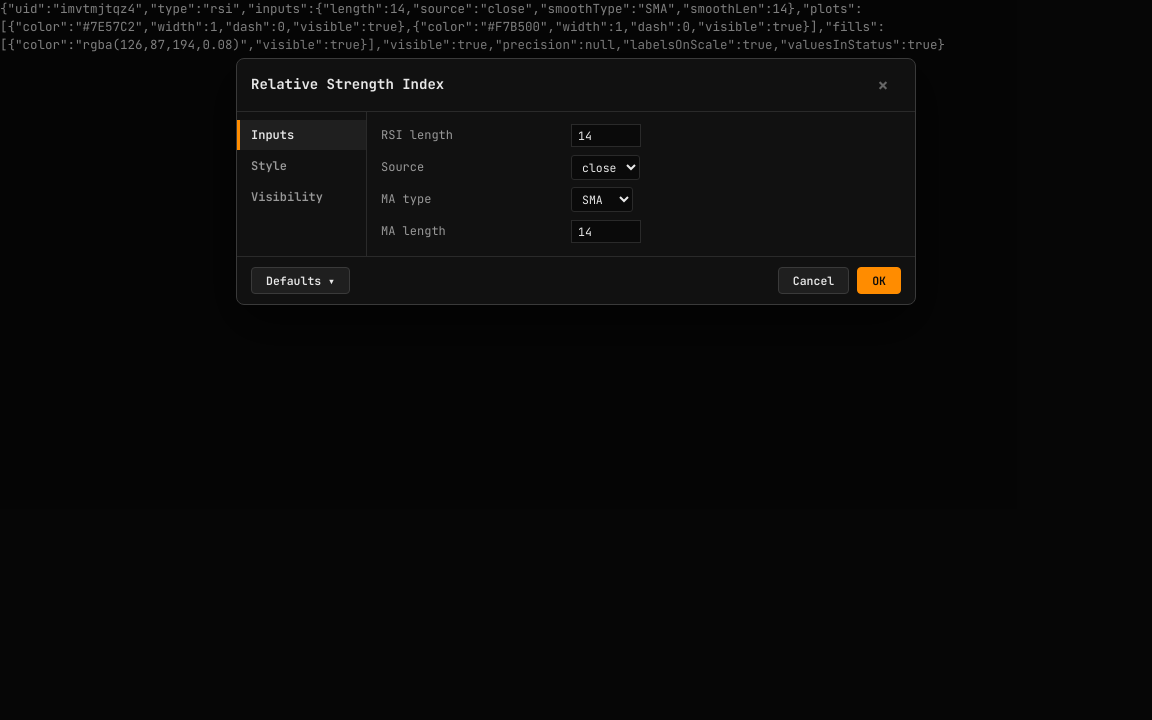
indicator settings dialog › keeps a visibility range the right way round
Click the tab "Visibility": (302, 197) [237,182,366,212]
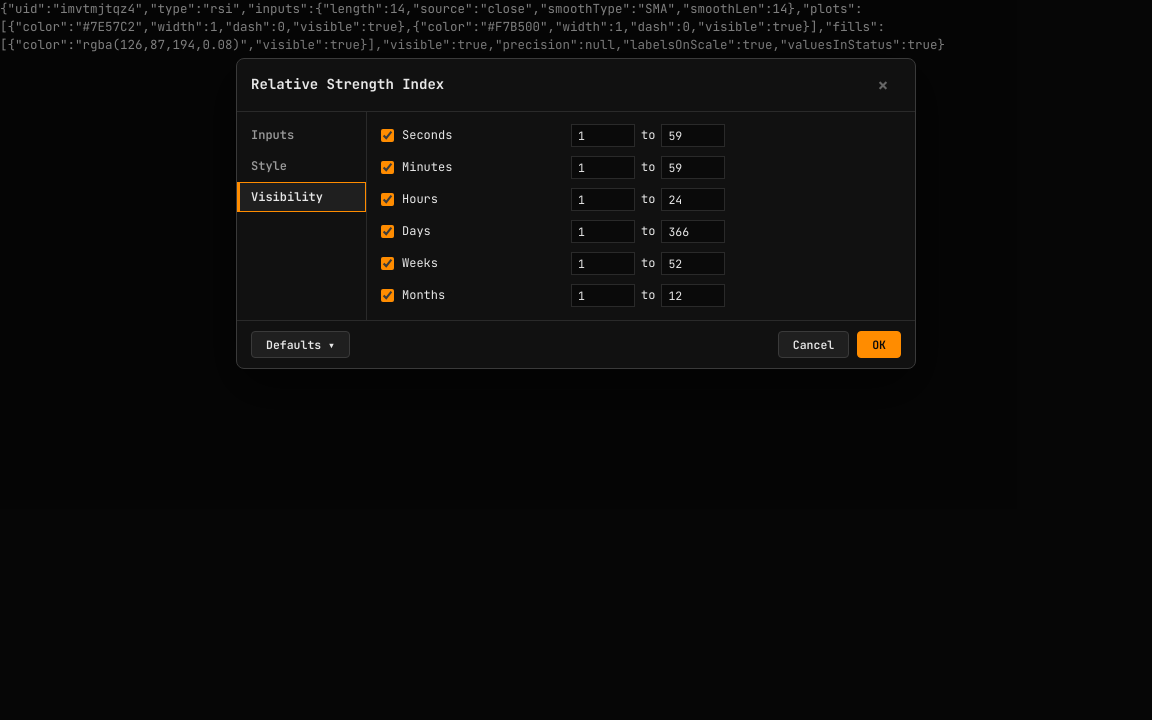
Replace the text in the number field named "Minutes to" with "5": (693, 168) [661,156,725,179]
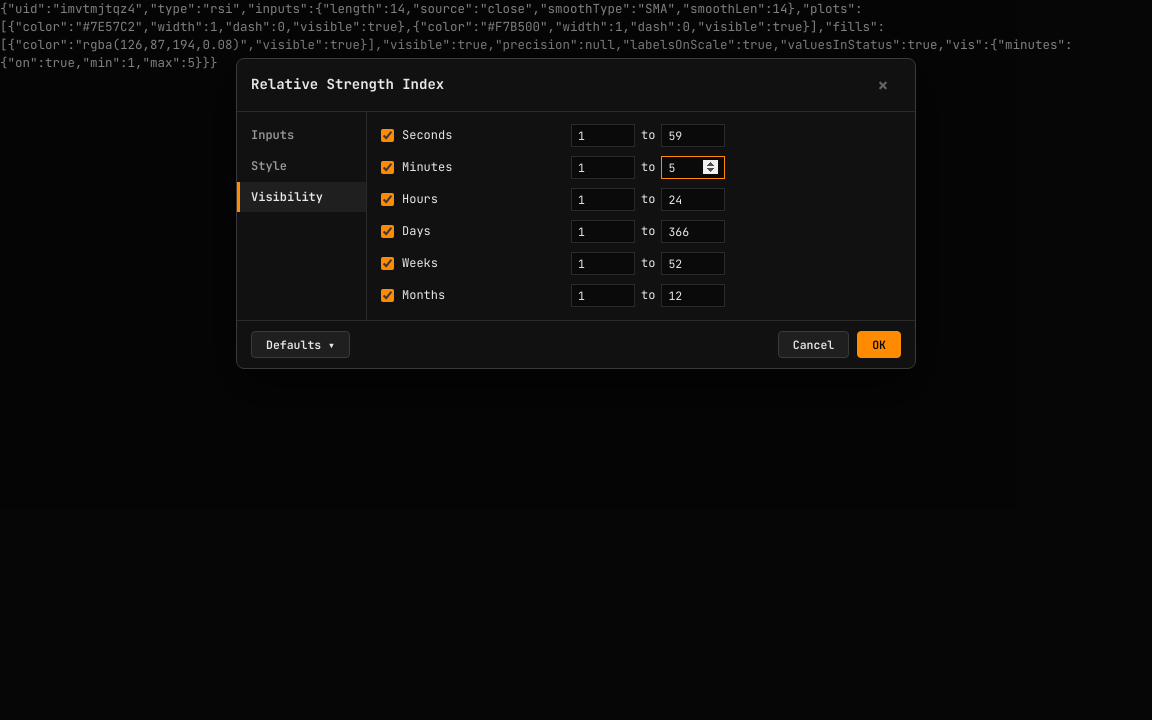
Replace the text in the number field named "Minutes from" with "15": (603, 168) [571,156,635,179]
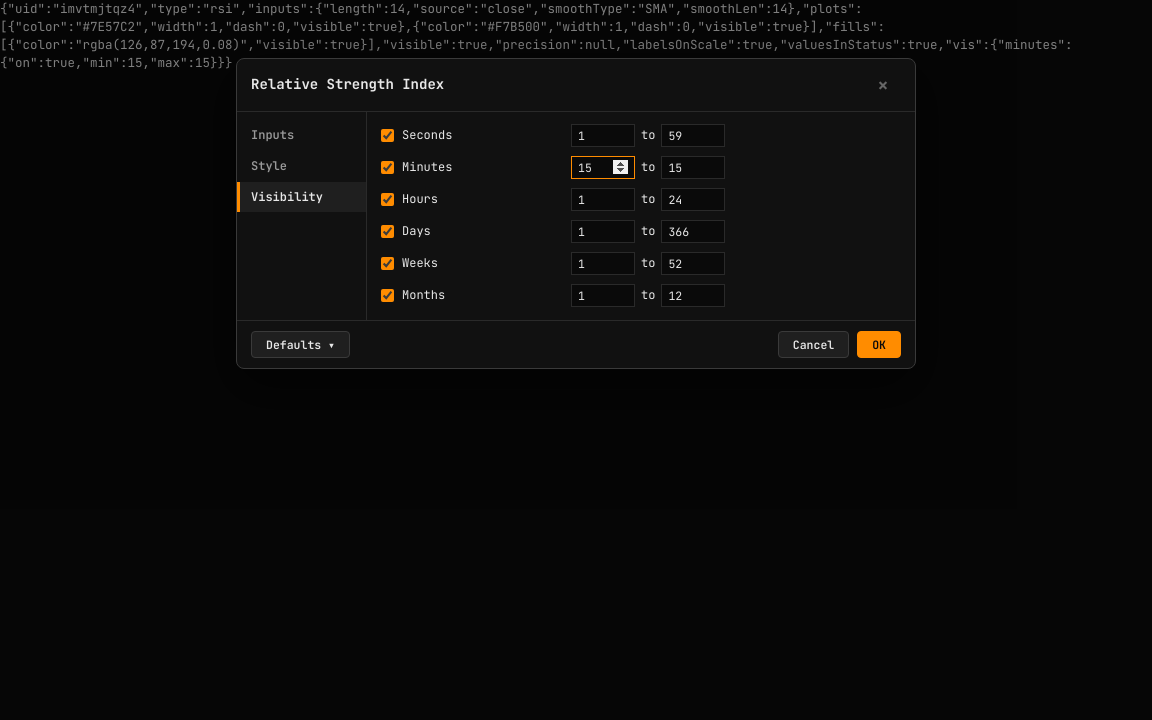
Click the checkbox named "Show on minutes": (388, 168) [381,161,394,174]
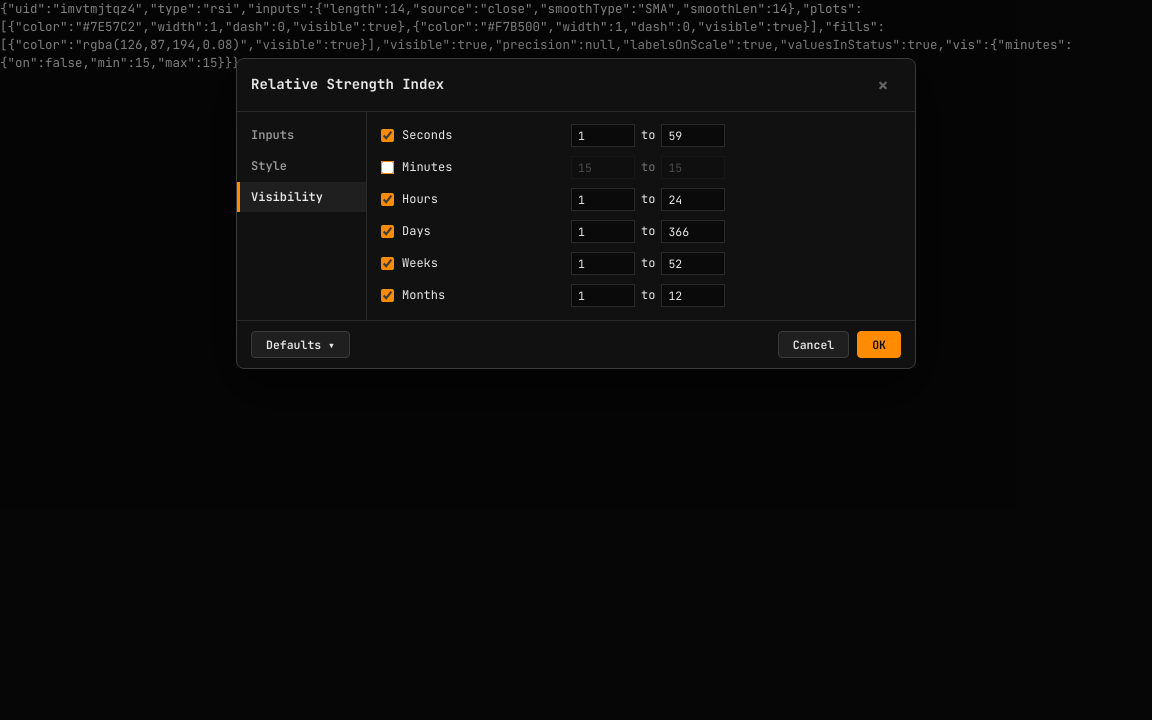
Check: the number field named "Minutes from" is disabled, box [571,156,635,179]
